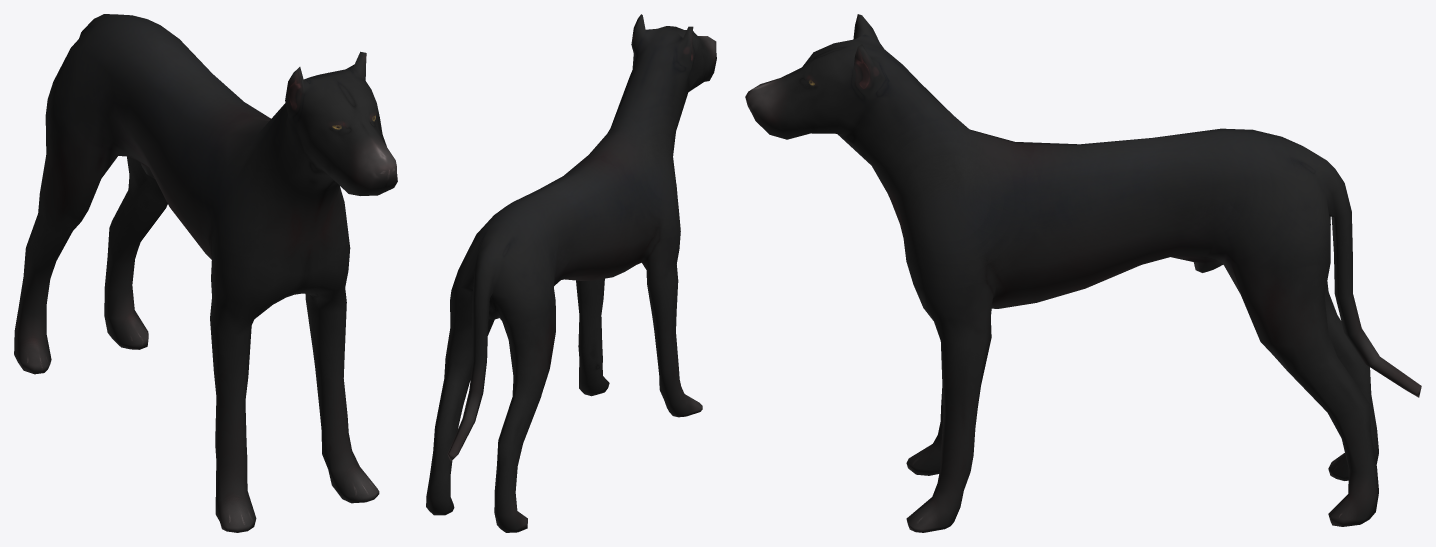
The model's file is dog.fbx.
The picture shows the model from 3 angles, left to right: view 1: azimuth 30°, elevation 25°; view 2: azimuth 150°, elevation 25°; view 3: azimuth 270°, elevation 25°; orthographic projection. The views are drawn at different scales.
Parts seen in each view (by area): view 1: Dog_low; view 2: Dog_low; view 3: Dog_low.
Part boxes in pixels (left/top/right/bottom): Dog_low: left=14, top=14, right=397, bottom=532; Dog_low: left=426, top=14, right=716, bottom=532; Dog_low: left=745, top=14, right=1421, bottom=532.
Size of the model in its own units: 0.5212 by 1.53 by 2.
1 material, 1 textured.
